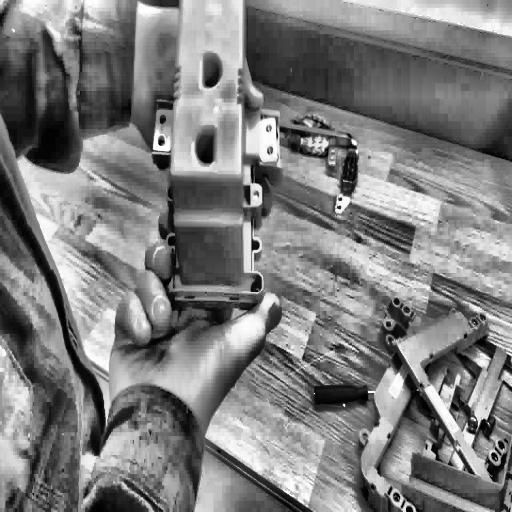busbar: (280, 106, 366, 215)
connector: (149, 0, 281, 314)
